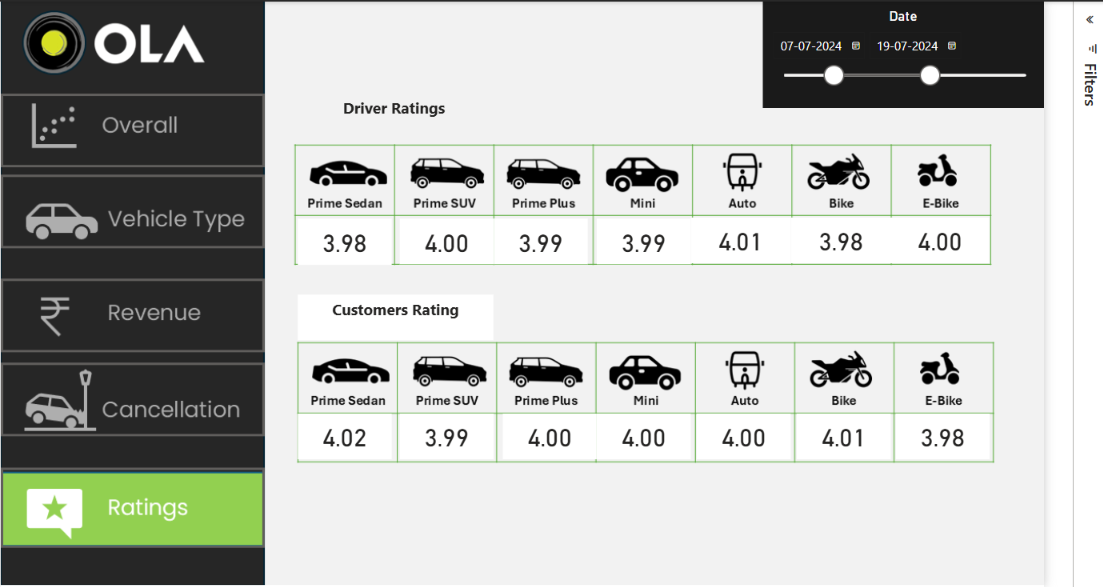

The dashboard page shown, as its layout file describes it:
{"tool":"powerbi","page":{"name":"Rating","canvas":[1280,720],"ordinal":4},"visuals":[{"type":"actionButton","box":[0,112.5,323.8,90.6],"z":0},{"type":"actionButton","box":[0,212.7,323.8,90.6],"z":1000},{"type":"actionButton","box":[0,340.3,323.8,90.6],"z":2000},{"type":"actionButton","box":[0,443.2,323.8,90.6],"z":3000},{"type":"actionButton","box":[0,572.2,323.8,98.8],"z":4000},{"type":"card","fields":{"Values":["Avg(July.Driver_Ratings)"]},"box":[364.4,266.3,115.3,56.4],"z":5000},{"type":"card","fields":{"Values":["Avg(July.Driver_Ratings)"]},"box":[489.9,266.2,115.3,56.3],"z":6000},{"type":"card","fields":{"Values":["Avg(July.Driver_Ratings)"]},"box":[605.1,266.2,115.3,56.3],"z":7000},{"type":"card","fields":{"Values":["Avg(July.Driver_Ratings)"]},"box":[731.4,266.2,115.3,56.3],"z":8000},{"type":"card","fields":{"Values":["Avg(July.Driver_Ratings)"]},"box":[846.7,264.8,122.1,56.3],"z":9000},{"type":"card","fields":{"Values":["Avg(July.Driver_Ratings)"]},"box":[968.8,264.8,123.5,56.3],"z":10000},{"type":"card","fields":{"Values":["Avg(July.Driver_Ratings)"]},"box":[1092.3,264.8,120.8,56.3],"z":11000},{"type":"card","fields":{"Values":["Avg(July.Customer_Rating)"]},"box":[365,505,115.3,56.3],"z":12000},{"type":"card","fields":{"Values":["Avg(July.Customer_Rating)"]},"box":[489.9,505,115.3,56.3],"z":13000},{"type":"card","fields":{"Values":["Avg(July.Customer_Rating)"]},"box":[616.1,505,115.3,56.3],"z":14000},{"type":"card","fields":{"Values":["Avg(July.Customer_Rating)"]},"box":[731.4,505,115.3,56.3],"z":15000},{"type":"card","fields":{"Values":["Avg(July.Customer_Rating)"]},"box":[853.5,505,115.3,56.3],"z":16000},{"type":"card","fields":{"Values":["Avg(July.Customer_Rating)"]},"box":[977,505,115.3,56.3],"z":17000},{"type":"card","fields":{"Values":["Avg(July.Customer_Rating)"]},"box":[1097.8,505,115.3,56.3],"z":18000},{"type":"textbox","box":[359.5,112.5,245.6,60.4],"z":19000},{"type":"textbox","box":[365,359.5,240.1,56.3],"z":20000},{"type":"slicer","title":"Date","fields":{"Values":["July.Date"]},"box":[935.6,0,344.4,130.4],"z":21000}]}

Visuals, with their boxes on the page's 1280x720 design canvas (x1, y1, x2, y2). These are canvas units, not pixel positions in the 1103x587 screenshot, which may show the page scaled, cropped or inside an application window:
actionButton: (x1=0, y1=112, x2=324, y2=203)
actionButton: (x1=0, y1=213, x2=324, y2=303)
actionButton: (x1=0, y1=340, x2=324, y2=431)
actionButton: (x1=0, y1=443, x2=324, y2=534)
actionButton: (x1=0, y1=572, x2=324, y2=671)
card - Avg(July.Driver_Ratings): (x1=364, y1=266, x2=480, y2=323)
card - Avg(July.Driver_Ratings): (x1=490, y1=266, x2=605, y2=322)
card - Avg(July.Driver_Ratings): (x1=605, y1=266, x2=720, y2=322)
card - Avg(July.Driver_Ratings): (x1=731, y1=266, x2=847, y2=322)
card - Avg(July.Driver_Ratings): (x1=847, y1=265, x2=969, y2=321)
card - Avg(July.Driver_Ratings): (x1=969, y1=265, x2=1092, y2=321)
card - Avg(July.Driver_Ratings): (x1=1092, y1=265, x2=1213, y2=321)
card - Avg(July.Customer_Rating): (x1=365, y1=505, x2=480, y2=561)
card - Avg(July.Customer_Rating): (x1=490, y1=505, x2=605, y2=561)
card - Avg(July.Customer_Rating): (x1=616, y1=505, x2=731, y2=561)
card - Avg(July.Customer_Rating): (x1=731, y1=505, x2=847, y2=561)
card - Avg(July.Customer_Rating): (x1=854, y1=505, x2=969, y2=561)
card - Avg(July.Customer_Rating): (x1=977, y1=505, x2=1092, y2=561)
card - Avg(July.Customer_Rating): (x1=1098, y1=505, x2=1213, y2=561)
textbox: (x1=360, y1=112, x2=605, y2=173)
textbox: (x1=365, y1=360, x2=605, y2=416)
"Date" slicer: (x1=936, y1=0, x2=1280, y2=130)
